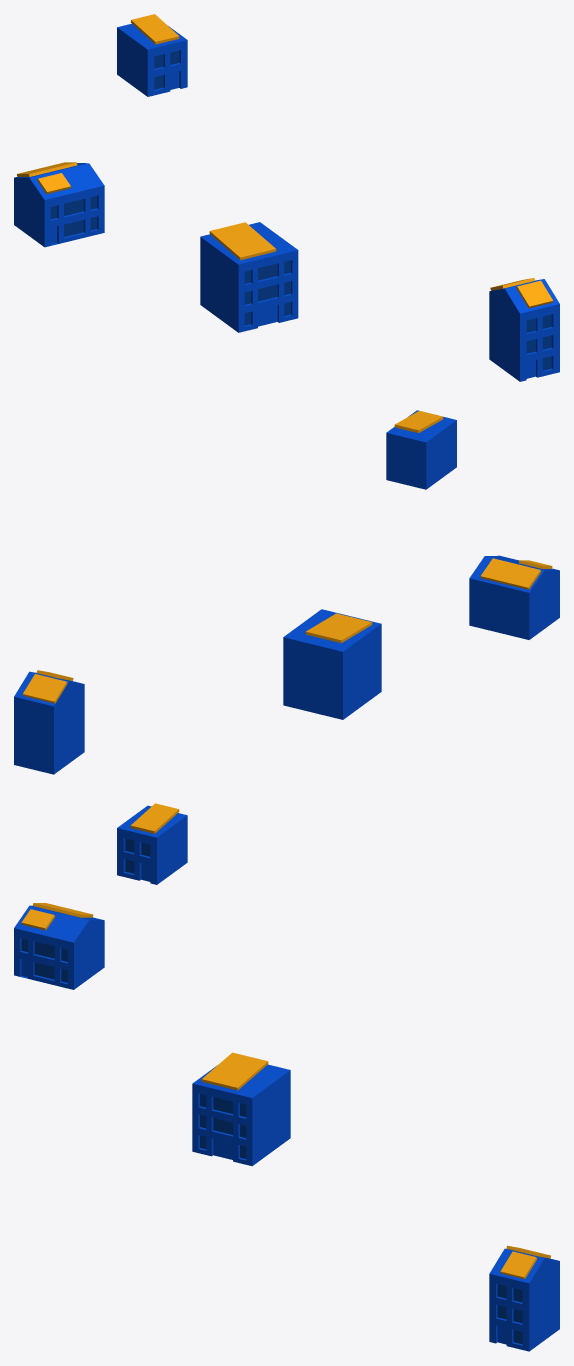
The model's file is BinaGrup9.gltf.
3 renders of one model, top to bottom at view 1: azimuth 30°, elevation 25°; view 2: azimuth 150°, elevation 25°; view 3: azimuth 330°, elevation 25°, orthographic.
Parts seen in each view (by area): view 1: Building_047.003, Building_069.003, Building_032.003, Building_038.003, Building_047_RoofCap_0.001, Building_047.005, Building_038_RoofCap_0.001, Building_032.005, Building_069_RoofCap_0.003, Building_069.005, Building_032_RoofCap_0.001; view 2: Building_047.003, Building_069.003, Building_032.003, Building_038.003, Building_032_RoofCap_1.001, Building_047_RoofCap_0.001, Building_069_RoofCap_1.003, Building_038_RoofCap_0.001; view 3: Building_047.003, Building_069.003, Building_032.003, Building_038.003, Building_047_RoofCap_0.001, Building_047.005, Building_038_RoofCap_0.001, Building_032.005, Building_069_RoofCap_0.003.
Part boxes in pixels (x1,y1,x2,y2): Building_047.003: [200, 222, 298, 332]; Building_069.003: [489, 279, 559, 381]; Building_032.003: [14, 163, 104, 247]; Building_038.003: [117, 23, 187, 96]; Building_047_RoofCap_0.001: [209, 222, 276, 260]; Building_047.005: [244, 260, 290, 325]; Building_038_RoofCap_0.001: [130, 14, 179, 44]; Building_032.005: [50, 196, 96, 236]; Building_069_RoofCap_0.003: [516, 280, 553, 308]; Building_069.005: [526, 314, 551, 370]; Building_032_RoofCap_0.001: [37, 173, 70, 193]; Building_047.003: [283, 609, 381, 719]; Building_069.003: [14, 671, 84, 774]; Building_032.003: [469, 555, 559, 639]; Building_038.003: [386, 410, 456, 489]; Building_032_RoofCap_1.001: [480, 558, 540, 589]; Building_047_RoofCap_0.001: [305, 613, 372, 643]; Building_069_RoofCap_1.003: [23, 674, 67, 703]; Building_038_RoofCap_0.001: [394, 410, 443, 432]; Building_047.003: [192, 1064, 290, 1166]; Building_069.003: [489, 1248, 559, 1351]; Building_032.003: [14, 905, 104, 989]; Building_038.003: [117, 805, 187, 884]; Building_047_RoofCap_0.001: [201, 1052, 268, 1090]; Building_047.005: [200, 1094, 246, 1158]; Building_038_RoofCap_0.001: [130, 803, 179, 833]; Building_032.005: [21, 938, 67, 982]; Building_069_RoofCap_0.003: [500, 1251, 536, 1279].
Bounding box in the file's own units: 0.4212 × 0.336 × 0.0543.
